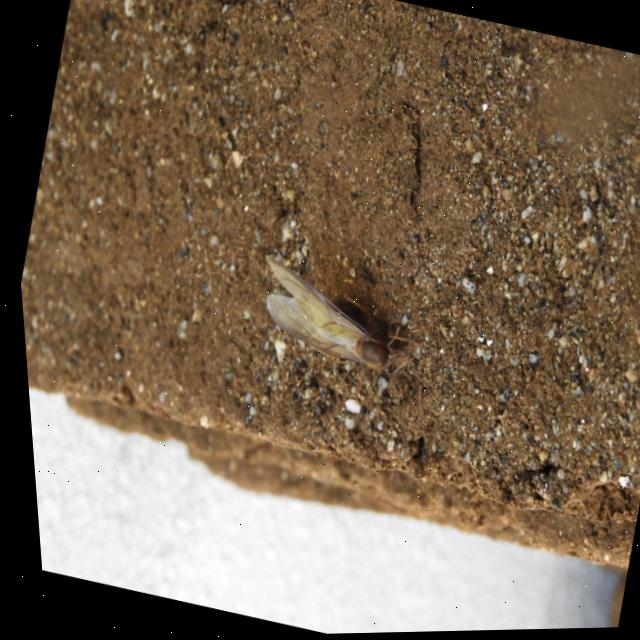Alive-Male-Alate: (230, 215, 450, 414)
